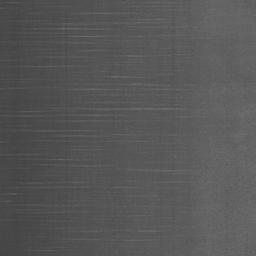Waist folding: (0, 54, 202, 209), (0, 0, 174, 53), (72, 228, 162, 242), (19, 64, 74, 69), (0, 0, 20, 10), (0, 86, 26, 91)
